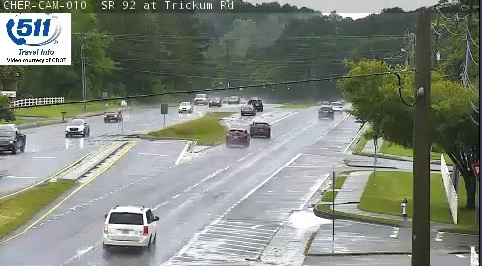car: (103, 207, 157, 247), (226, 129, 249, 146), (250, 122, 270, 137)
